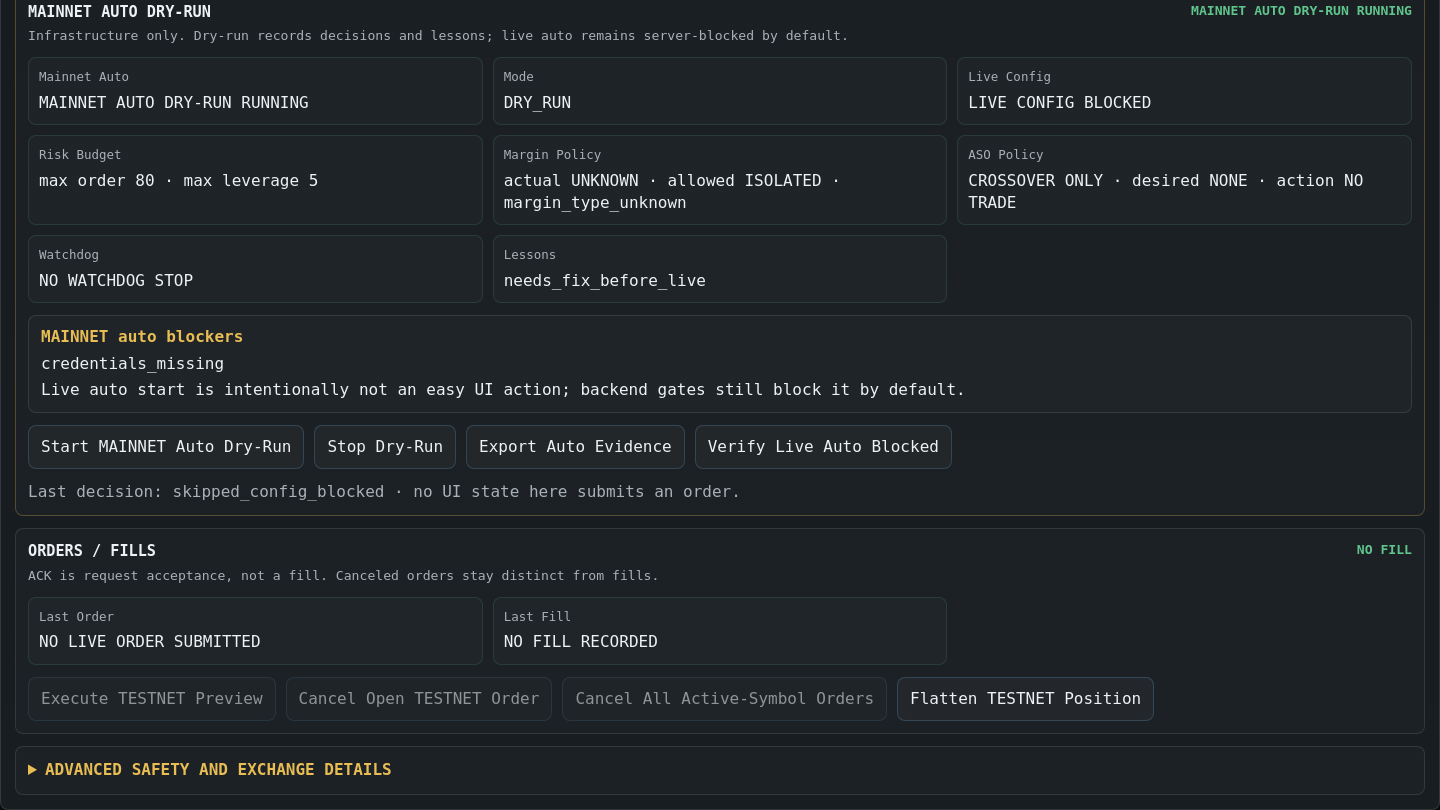
Test case: live access panel › renders mainnet auto dry-run and live blocked controls without implying live execution
(page scrolled)
expect the 1st text "MAINNET AUTO DRY-RUN RUNNING" is shown: met, box [1191, 2, 1412, 20]
expect the text "actual UNKNOWN · allowed ISOLATED · margin_type_unknown" is shown: met, box [504, 171, 841, 212]
Click the button "Verify Live Auto Blocked".
click(823, 447)  # box [695, 424, 952, 469]
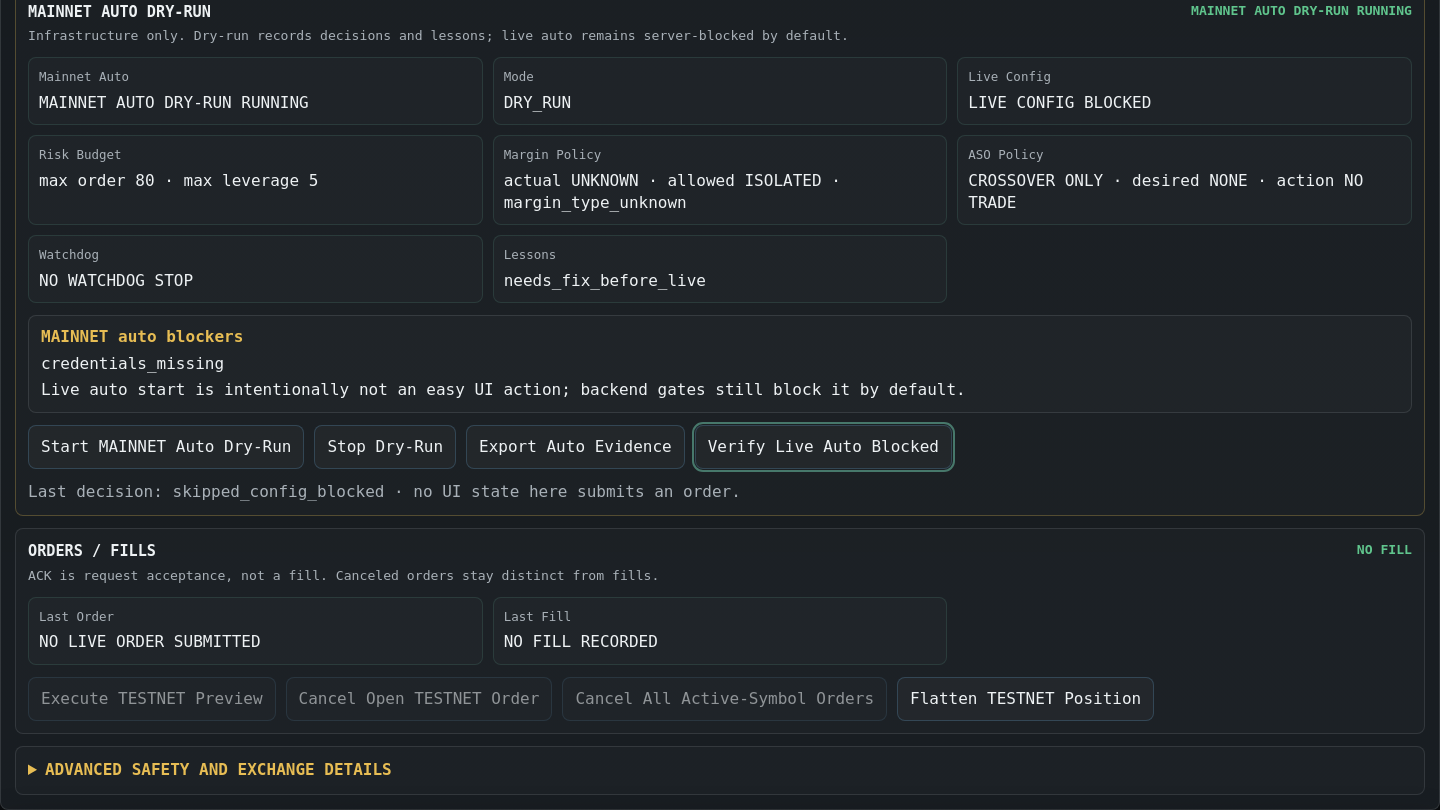
Click the button "Export Auto Evidence".
click(575, 447)  # box [466, 424, 685, 469]
(page scrolled)
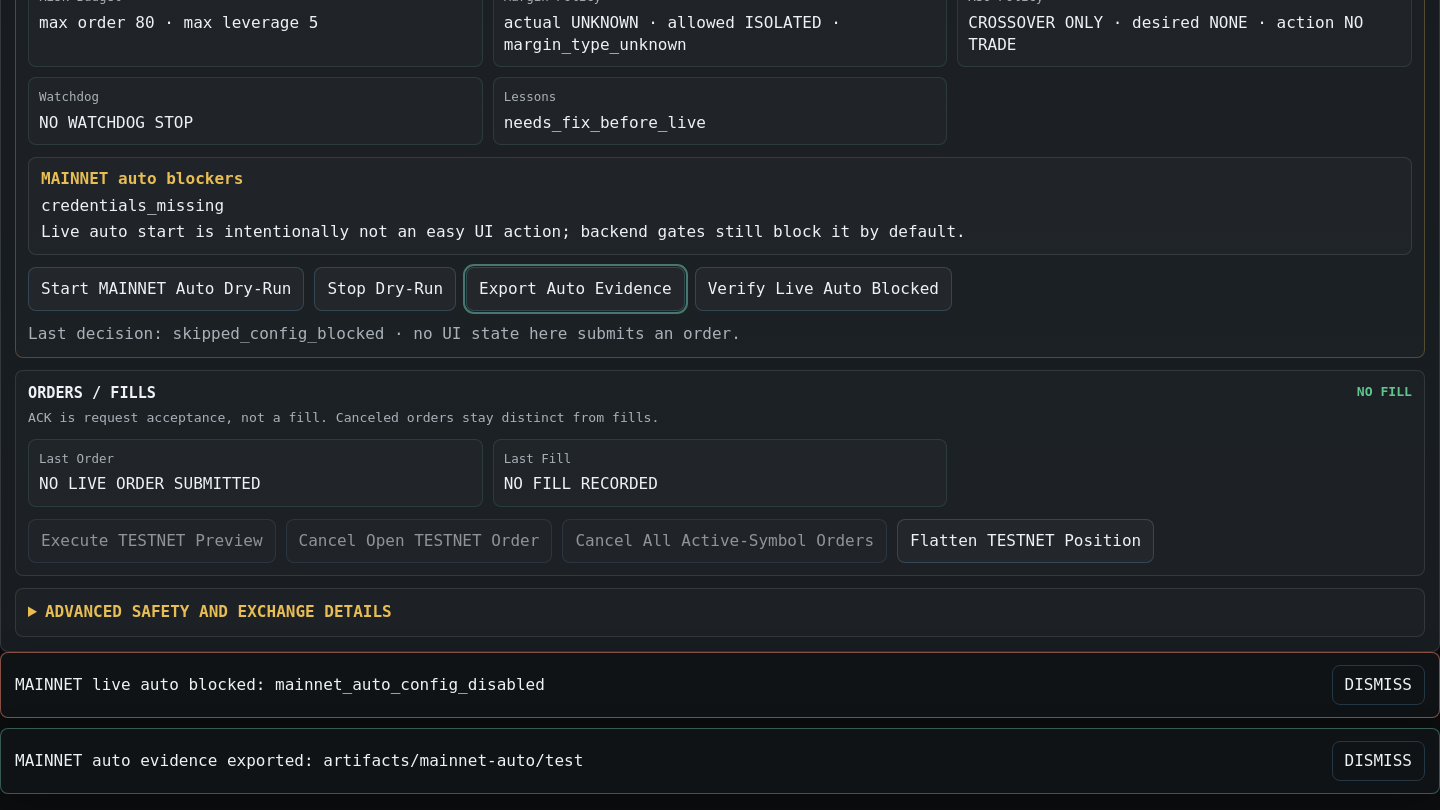
expect the text "MAINNET auto evidence exported: artifacts/mainnet-auto/test" is shown: met, box [15, 751, 583, 770]
